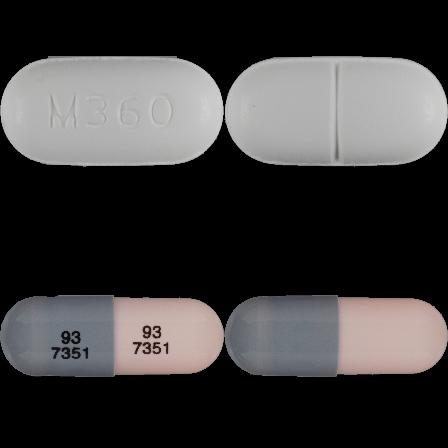42254-223: (0, 0, 224, 224)
